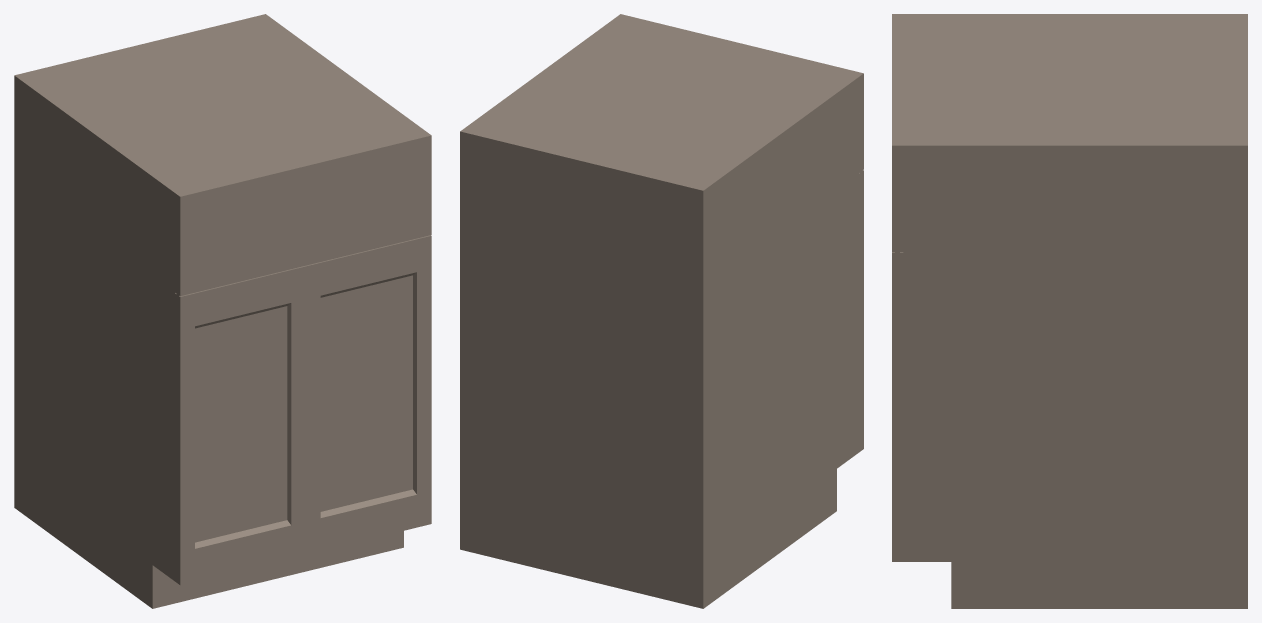
Rendered from Base-Cabinet-Double-Door-One-Drawer-24-Deep_std_001_W21in.glb.
3 views of the same model, side by side, from view 1: azimuth 30°, elevation 25°; view 2: azimuth 150°, elevation 25°; view 3: azimuth 270°, elevation 25° (orthographic). The views are drawn at different scales.
Parts seen in each view (by area): view 1: Base-Cabinet-Double-Door-One-Drawer-24-Deep.std.001_W21in; view 2: Base-Cabinet-Double-Door-One-Drawer-24-Deep.std.001_W21in; view 3: Base-Cabinet-Double-Door-One-Drawer-24-Deep.std.001_W21in.
Boxes of the visible parts, box(x1,y1,x2,y2) form: Base-Cabinet-Double-Door-One-Drawer-24-Deep.std.001_W21in: box(14, 14, 431, 608); Base-Cabinet-Double-Door-One-Drawer-24-Deep.std.001_W21in: box(460, 14, 863, 608); Base-Cabinet-Double-Door-One-Drawer-24-Deep.std.001_W21in: box(892, 14, 1247, 608).
Bounding box in the file's own units: 0.5334 × 0.8763 × 0.6096.
